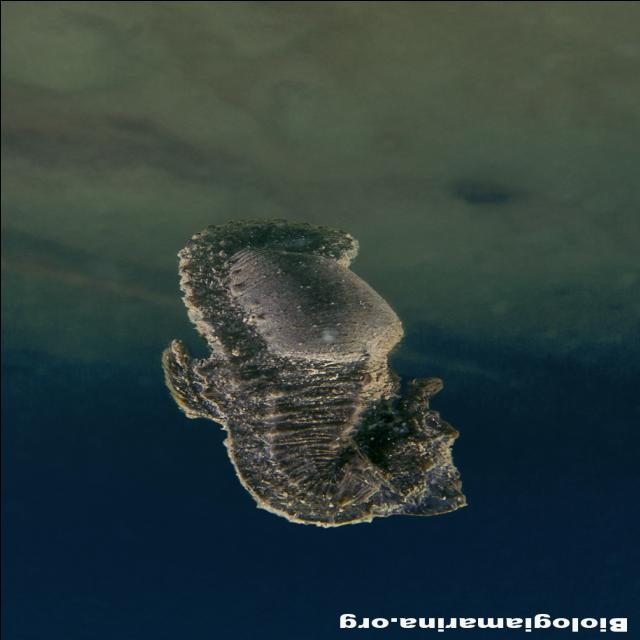Hippo: (341, 368, 481, 522)
